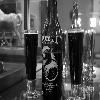beer: (19, 26, 41, 100)
